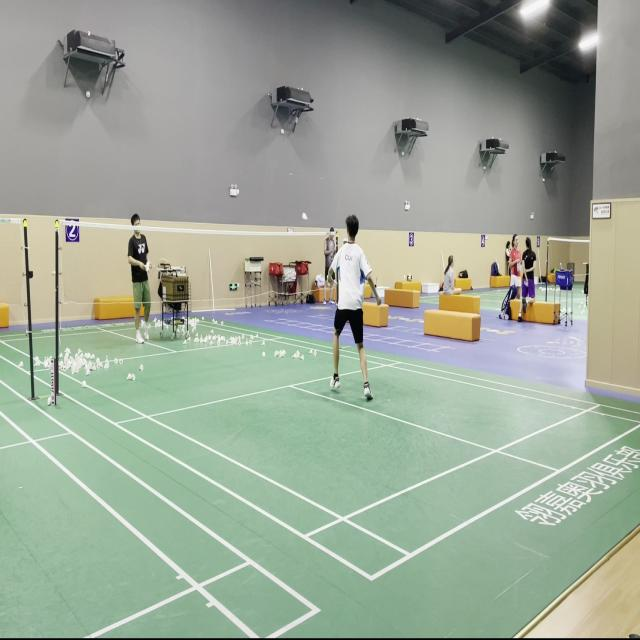shuttlecock: (302, 212, 308, 220)
